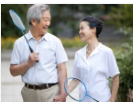person: (24, 5, 59, 39), (73, 14, 108, 47)
